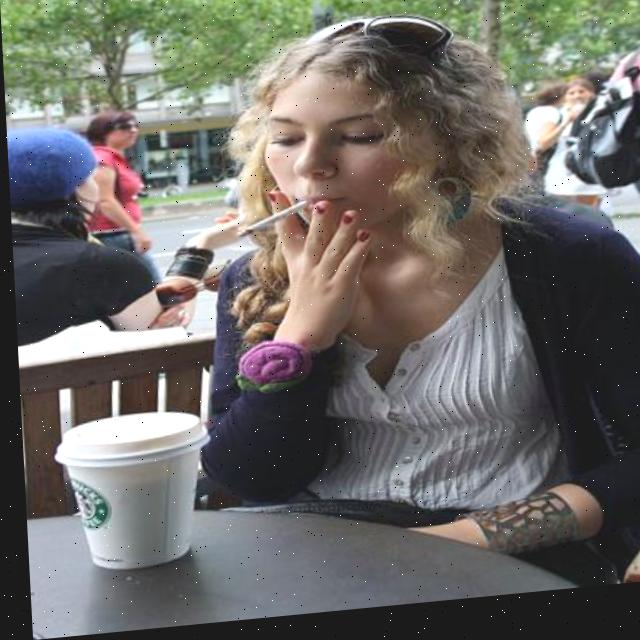cigarette: (233, 206, 309, 243)
